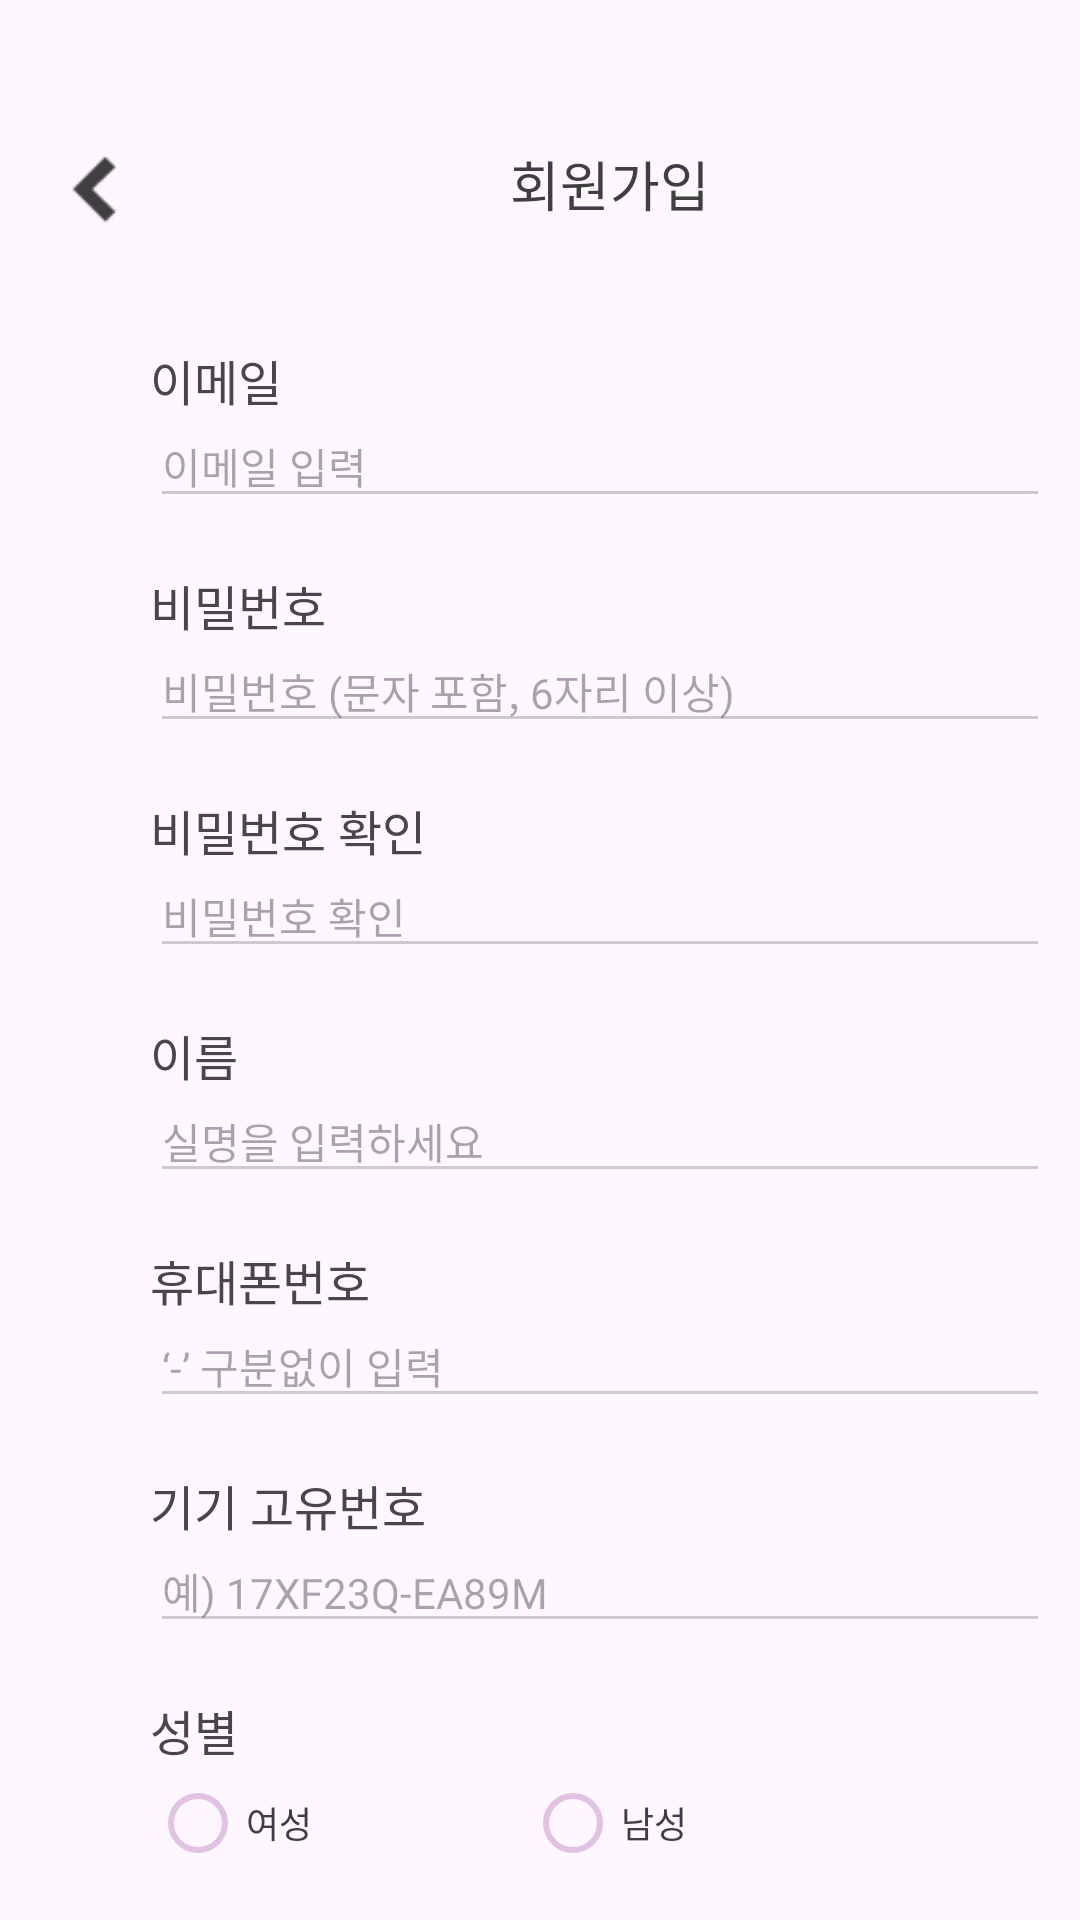

Where icons sit on this 1080px×1920px app screen, as {"left": x1, "top": y1, "right": x2, "bottom": y2}:
back: {"left": 72, "top": 157, "right": 116, "bottom": 223}
